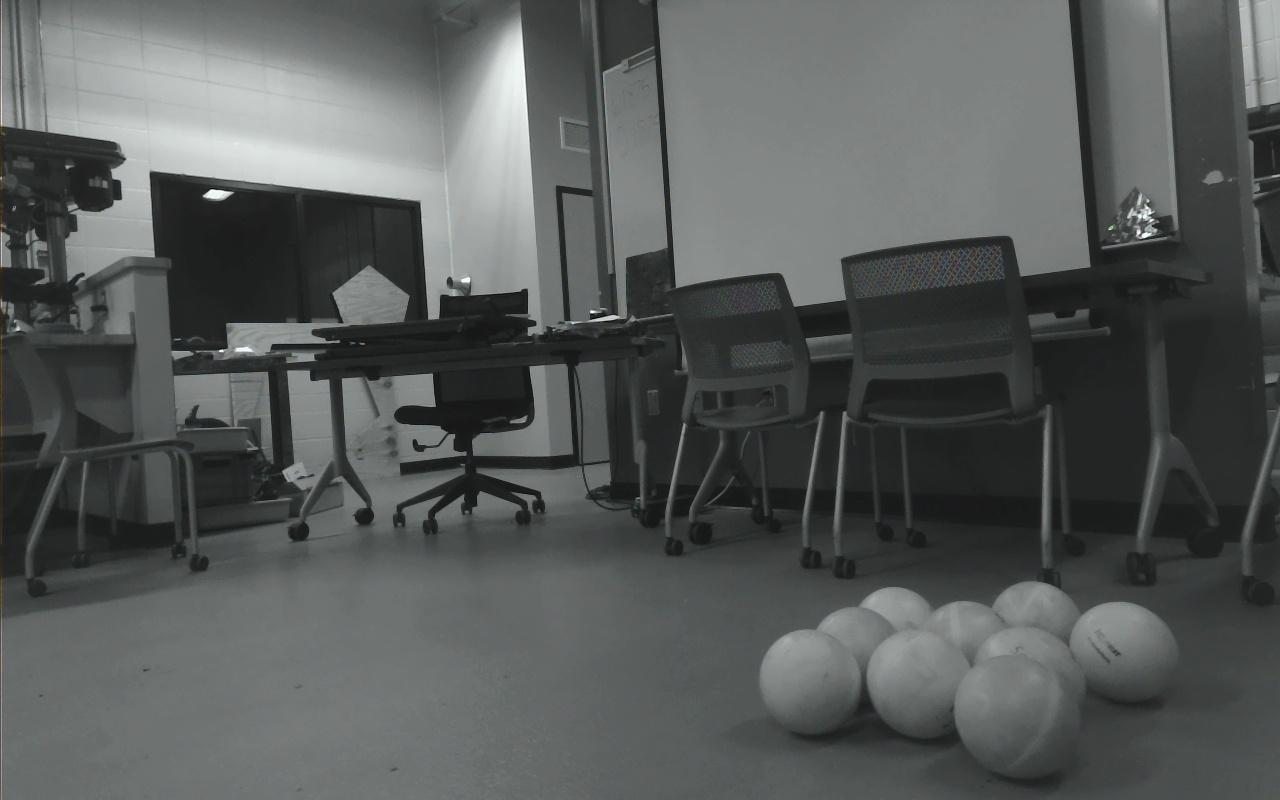Fuel: (954, 654, 1080, 779), (867, 628, 972, 739), (972, 626, 1087, 724), (1069, 601, 1180, 702), (759, 629, 861, 736), (991, 580, 1083, 672), (922, 600, 1011, 694), (814, 606, 897, 703), (858, 586, 936, 676)
